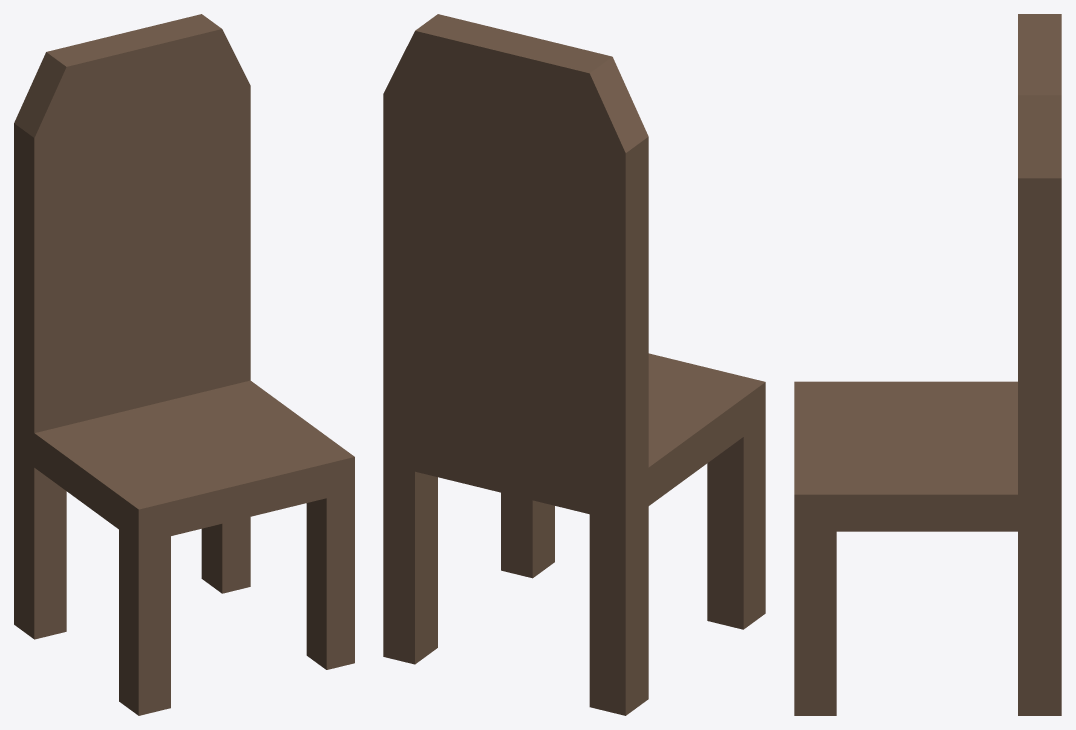
Rendered from chair.fbx.
3 renders of one model, left to right at view 1: azimuth 30°, elevation 25°; view 2: azimuth 150°, elevation 25°; view 3: azimuth 270°, elevation 25°, orthographic. The views are drawn at different scales.
Parts seen in each view (by area): view 1: chair; view 2: chair; view 3: chair.
Boxes of the visible parts, <box> form: chair: <box>14,14,354,715</box>; chair: <box>383,14,765,715</box>; chair: <box>794,14,1061,715</box>.
Size of the model in its own units: 105 by 261 by 105.
